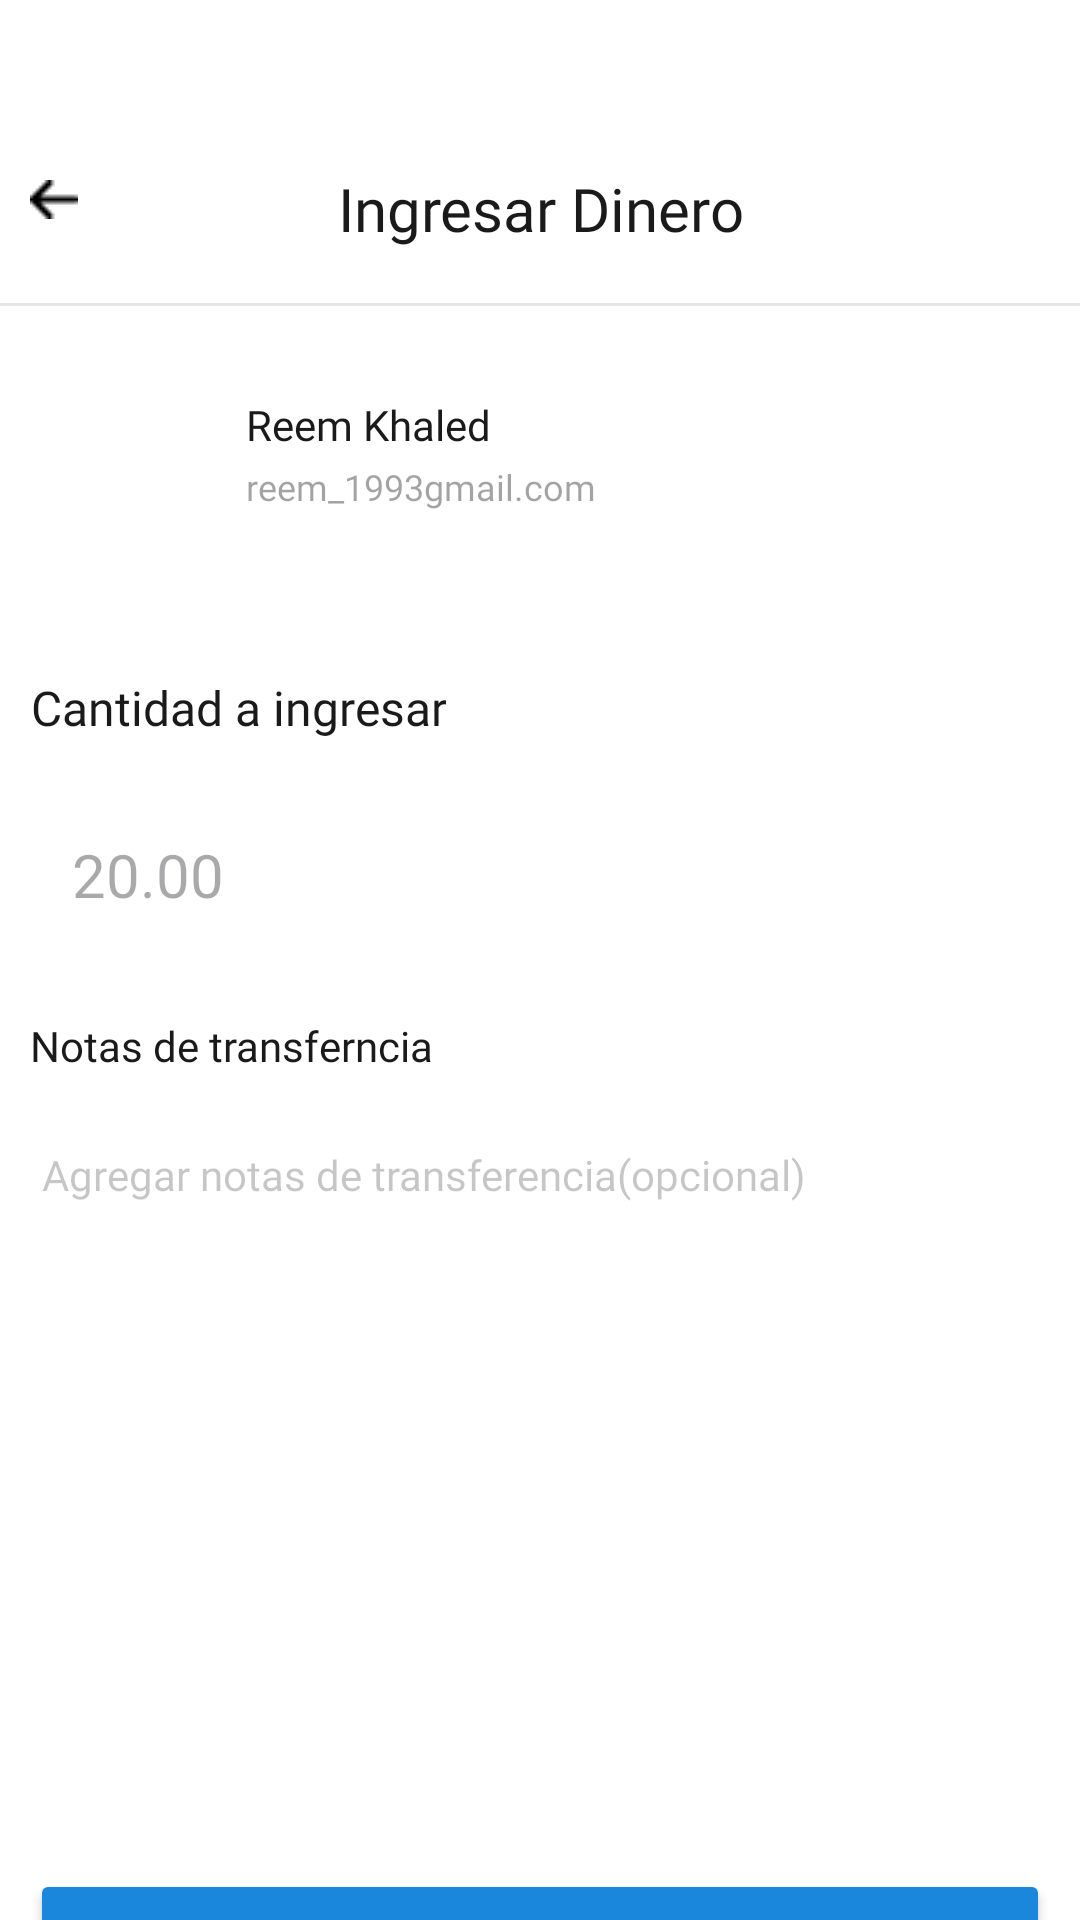

Where to tap for icons on this 1080x1920 app screen, as (x=x, y=y):
left: (x=54, y=199)
